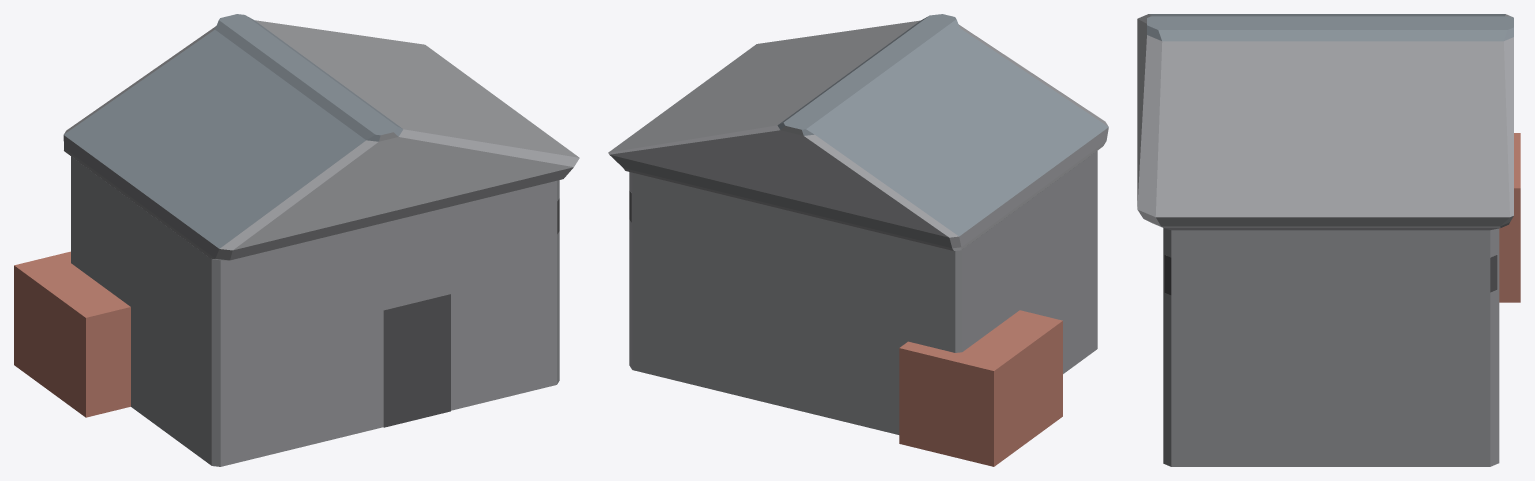
The model's file is loin.glb.
The picture shows the model from 3 angles, left to right: view 1: azimuth 30°, elevation 25°; view 2: azimuth 150°, elevation 25°; view 3: azimuth 270°, elevation 25°; orthographic projection. The views are drawn at different scales.
Parts seen in each view (by area): view 1: loin; view 2: loin; view 3: loin.
Part boxes in pixels (x1,y1,x2,y2): loin: [14, 14, 579, 466]; loin: [608, 14, 1108, 466]; loin: [1137, 14, 1520, 466].
Size of the model in its own units: 0.9547 by 0.6721 by 0.6805.
